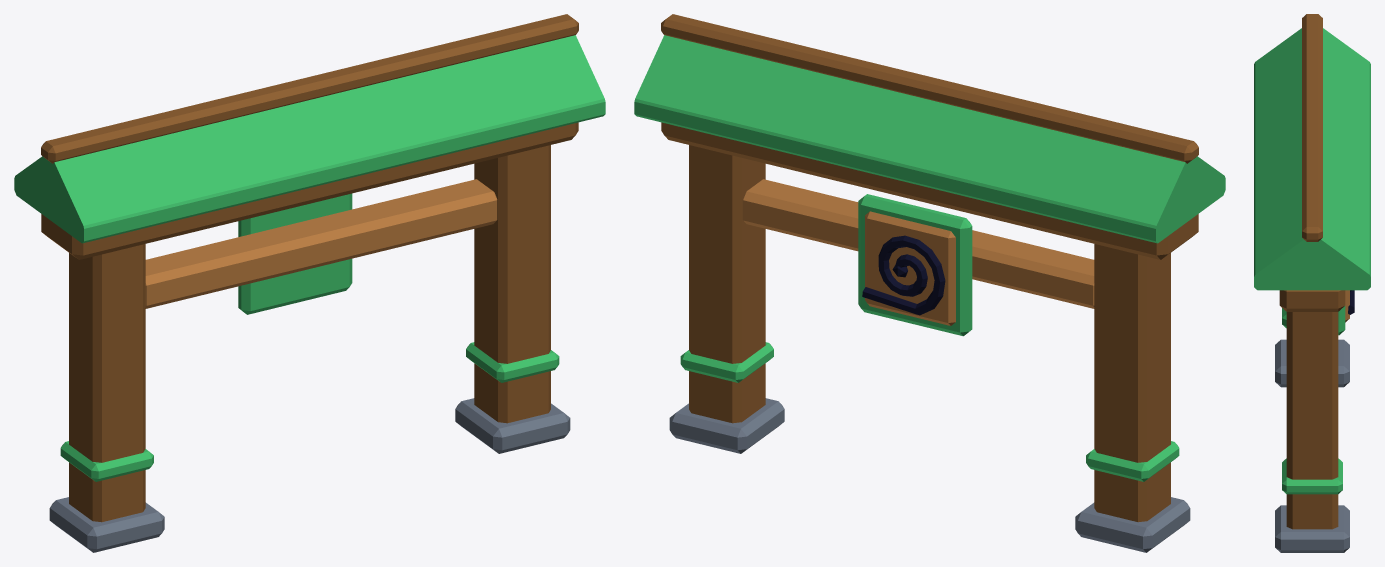
Rendered from Prop_ninja_village_HiddenGate.glb.
The picture shows the model from 3 angles, left to right: view 1: azimuth 30°, elevation 25°; view 2: azimuth 150°, elevation 25°; view 3: azimuth 270°, elevation 25°; orthographic projection. The views are drawn at different scales.
Parts seen in each view (by area): view 1: WoodDark_8A5A2B, LeafGreen_3FBF6A, Wood_B5793F, StoneDark_6B7686; view 2: WoodDark_8A5A2B, LeafGreen_3FBF6A, Wood_B5793F, StoneDark_6B7686, Ink_0D0F2B; view 3: LeafGreen_3FBF6A, WoodDark_8A5A2B, StoneDark_6B7686.
Part boxes in pixels (left/top/right/bottom): WoodDark_8A5A2B: left=41, top=14, right=578, bottom=522; LeafGreen_3FBF6A: left=14, top=35, right=605, bottom=481; Wood_B5793F: left=145, top=179, right=497, bottom=308; StoneDark_6B7686: left=49, top=398, right=570, bottom=552; WoodDark_8A5A2B: left=661, top=14, right=1198, bottom=522; LeafGreen_3FBF6A: left=634, top=35, right=1225, bottom=481; Wood_B5793F: left=742, top=179, right=1094, bottom=325; StoneDark_6B7686: left=669, top=398, right=1190, bottom=552; Ink_0D0F2B: left=862, top=235, right=945, bottom=315; LeafGreen_3FBF6A: left=1254, top=28, right=1370, bottom=494; WoodDark_8A5A2B: left=1279, top=14, right=1345, bottom=529; StoneDark_6B7686: left=1275, top=339, right=1349, bottom=552.
Bounding box in the file's own units: 22 × 15.9 × 5.
